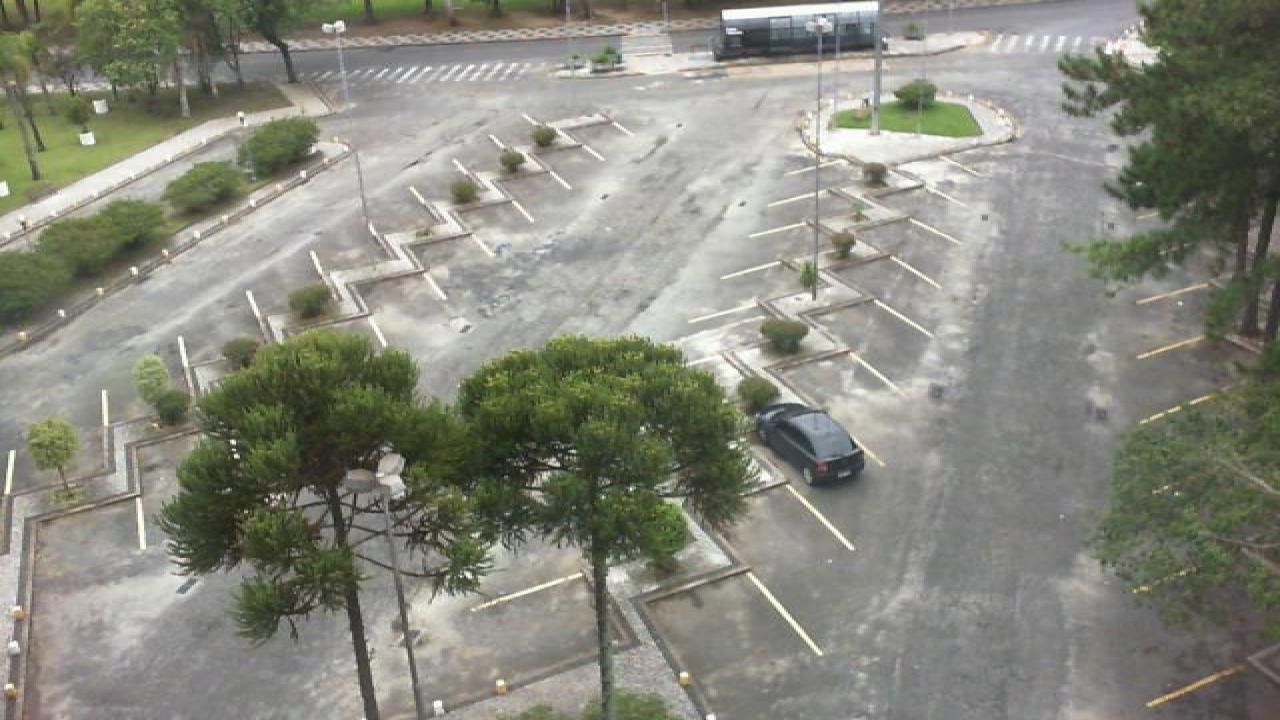Car: (756, 402, 866, 488)
